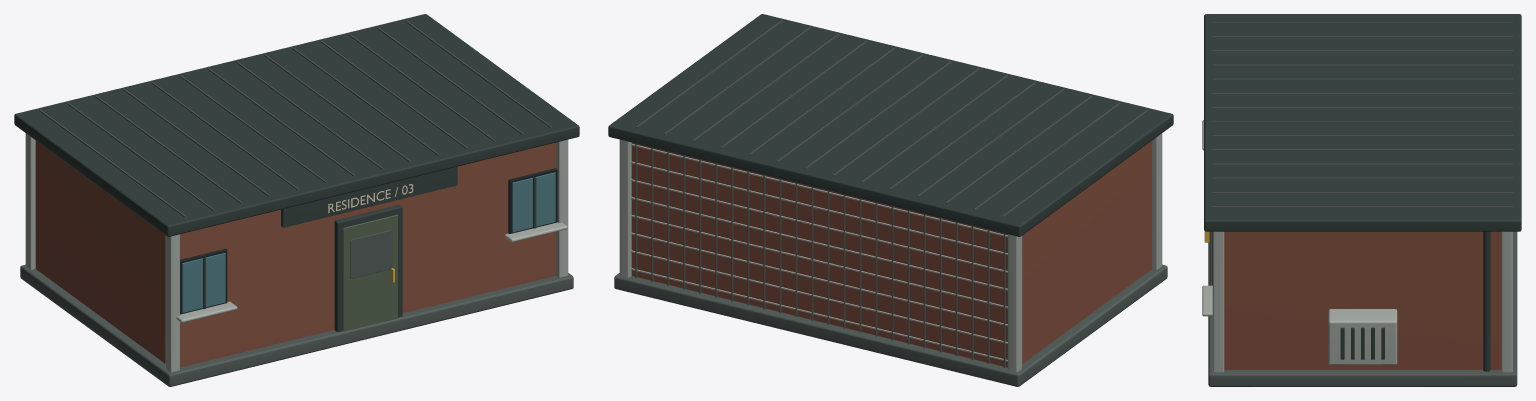
File: ResidenceModule.fbx
The picture shows the model from 3 angles, left to right: view 1: azimuth 30°, elevation 25°; view 2: azimuth 150°, elevation 25°; view 3: azimuth 270°, elevation 25°; orthographic projection. The views are drawn at different scales.
Parts seen in each view (by area): view 1: ResidenceModuleMesh; view 2: ResidenceModuleMesh; view 3: ResidenceModuleMesh.
Boxes of the visible parts, left/top/right/bottom form: ResidenceModuleMesh: left=14, top=14, right=579, bottom=386; ResidenceModuleMesh: left=608, top=14, right=1173, bottom=386; ResidenceModuleMesh: left=1202, top=14, right=1521, bottom=386.
Size of the model in its own units: 886 by 327 by 553.
